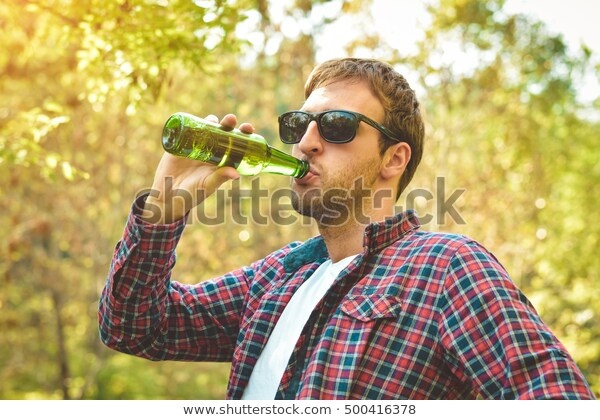beerBottle: (159, 111, 309, 173)
